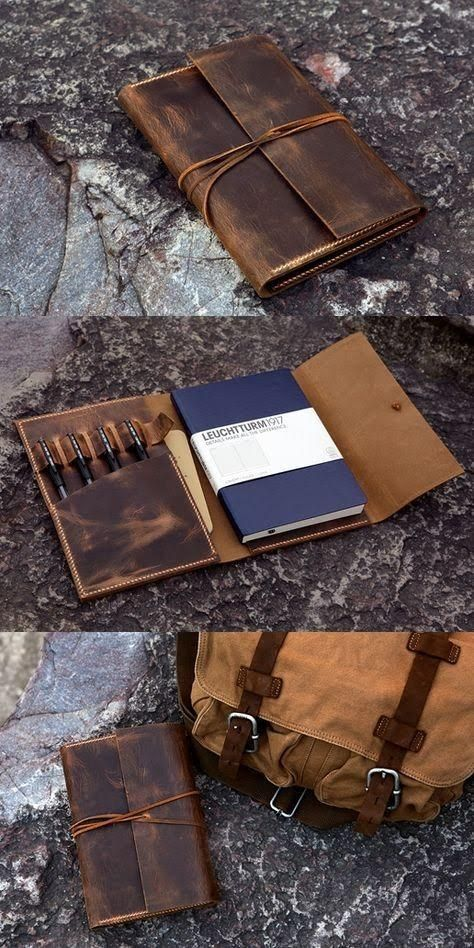cuero: (10, 34, 474, 932)
